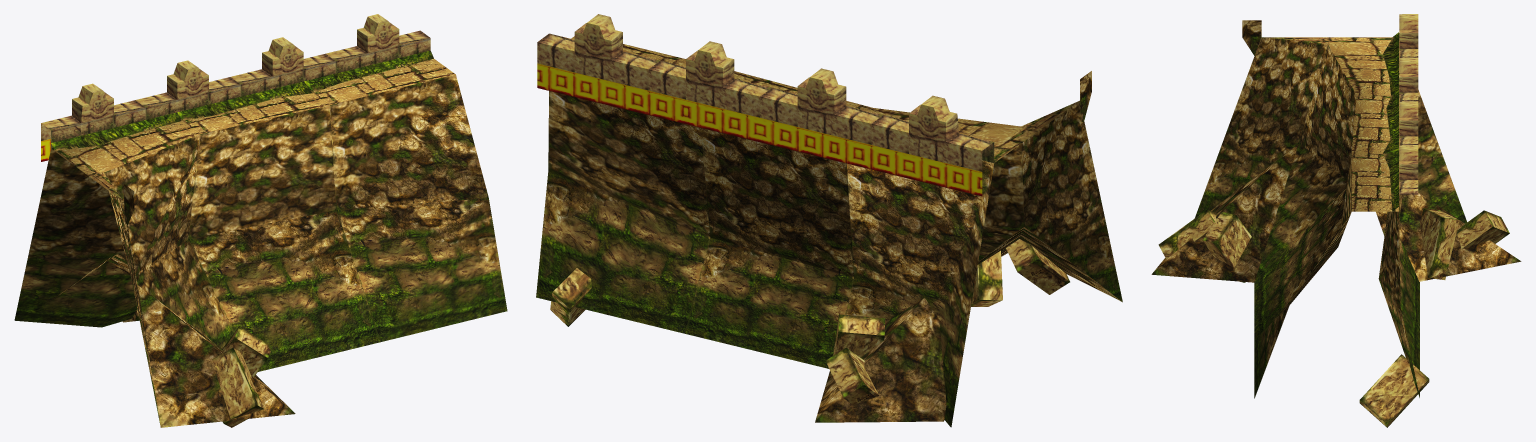
File: narrow_long_end_1.fbx
3 views of the same model, side by side, from view 1: azimuth 30°, elevation 25°; view 2: azimuth 150°, elevation 25°; view 3: azimuth 270°, elevation 25° (orthographic). The views are drawn at different scales.
Visible parts, largest first — view 1: templeStraightNarrowLongDownBHorz_prefab; view 2: templeStraightNarrowLongDownBHorz_prefab; view 3: templeStraightNarrowLongDownBHorz_prefab.
Boxes of the visible parts, left/top/right/bottom form: templeStraightNarrowLongDownBHorz_prefab: left=14, top=14, right=507, bottom=427; templeStraightNarrowLongDownBHorz_prefab: left=536, top=14, right=1122, bottom=427; templeStraightNarrowLongDownBHorz_prefab: left=1151, top=14, right=1521, bottom=427.
Bounding box in the file's own units: 6074 × 4212 × 5373.
